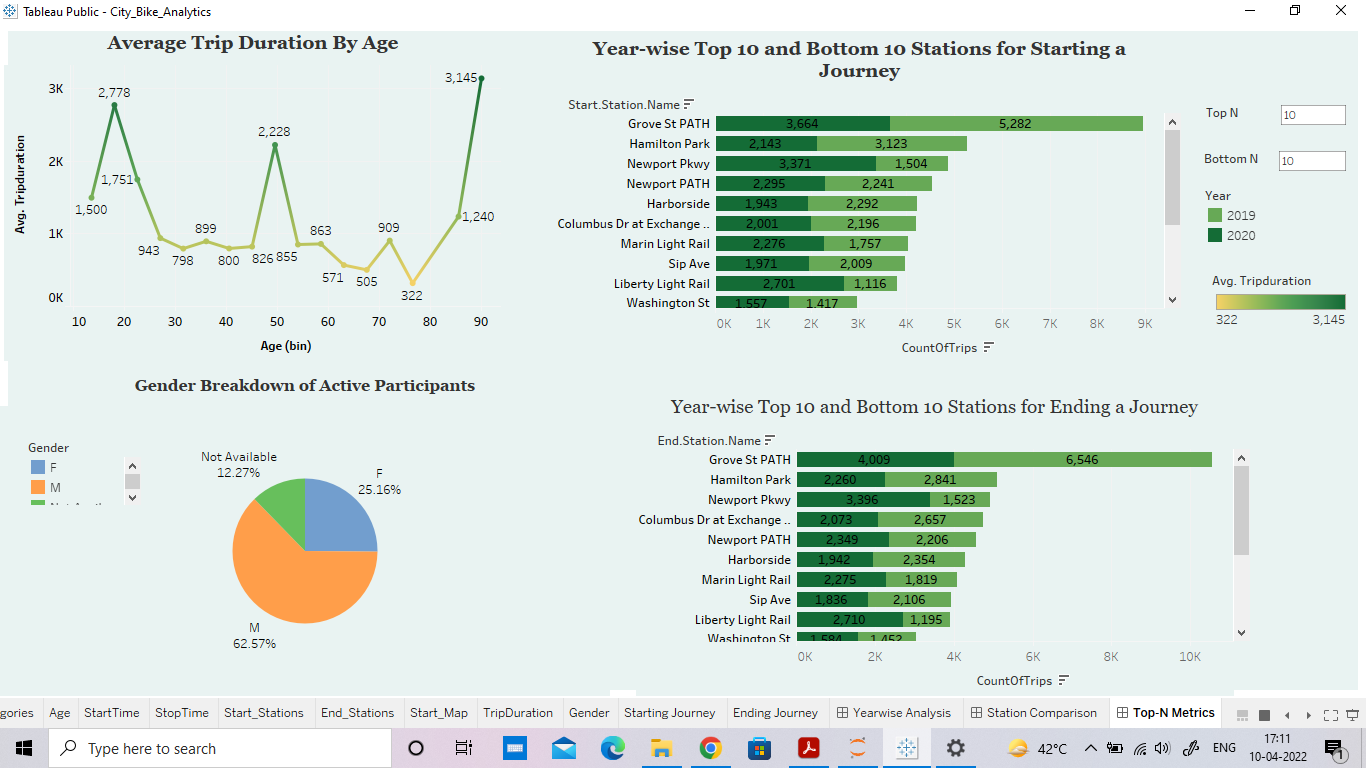

The dashboard page shown, as its layout file describes it:
{"tool":"tableau","page":{"name":"Top-N Metrics","canvas":[1000,1000],"units":"permille","ordinal":2},"visuals":[{"type":"worksheet","box":[0,0,1000,1000]},{"type":"worksheet","title":"TripDuration","mark":"Line","rows":["tripduration"],"cols":["Age (bin)"],"box":[2.6,6.9,364.4,493.9]},{"type":"worksheet","param":"vert","box":[7,13.5,986.1,973]},{"type":"worksheet","box":[7,13.5,986.1,973]},{"type":"worksheet","title":"Starting Journey","mark":"Automatic","rows":["start.station.name"],"cols":["Calculation_265149476236341248"],"box":[406.5,15.6,458.3,487]},{"type":"worksheet","param":"[Parameters].[CountOfTripDuration Parameter]","box":[883.1,116.5,104.8,55.7]},{"type":"worksheet","param":"[Parameters].[CountOfTripDuration Parameter (copy)_265149476236771329]","box":[881.4,185.8,106.5,55.7]},{"type":"worksheet","title":"Starting Journey","mark":"Automatic","rows":["start.station.name"],"cols":["Calculation_265149476236341248"],"param":"[federated.0axtsh30ud2oz713ihg7k1uitwuh].[none:year:nk]","box":[882.2,243.2,109.1,135.1]},{"type":"worksheet","title":"TripDuration","mark":"Line","rows":["tripduration"],"cols":["Age (bin)"],"param":"[federated.0axtsh30ud2oz713ihg7k1uitwuh].[avg:tripduration:qk]","box":[887.5,368.2,101.3,155.4]},{"type":"worksheet","title":"Gender","mark":"Pie","box":[0,517.7,446.5,480.6]},{"type":"worksheet","title":"Ending Journey","mark":"Automatic","rows":["end.station.name"],"cols":["Calculation_265149476236341248"],"box":[465.8,547.3,449.4,451]},{"type":"worksheet","title":"Gender","mark":"Pie","param":"[federated.0axtsh30ud2oz713ihg7k1uitwuh].[none:gender:nk]","box":[20.5,615.6,84.5,98.7]}]}

Visuals, with their boxes on the dashboard's canvas, which has no fixed pixel size, in thousandths of its width and height (x1, y1, x2, y2). These are canvas units, not pixel positions in the 1366x768 screenshot, which may show the page scaled, cropped or inside an application window:
worksheet: l=0, t=0, r=1000, b=1000
"TripDuration" worksheet (Line marks): l=3, t=7, r=367, b=501
worksheet: l=7, t=14, r=993, b=986
worksheet: l=7, t=14, r=993, b=986
"Starting Journey" worksheet: l=406, t=16, r=865, b=503
worksheet: l=883, t=116, r=988, b=172
worksheet: l=881, t=186, r=988, b=242
"Starting Journey" worksheet: l=882, t=243, r=991, b=378
"TripDuration" worksheet (Line marks): l=888, t=368, r=989, b=524
"Gender" worksheet (Pie marks): l=0, t=518, r=446, b=998
"Ending Journey" worksheet: l=466, t=547, r=915, b=998
"Gender" worksheet (Pie marks): l=20, t=616, r=105, b=714
